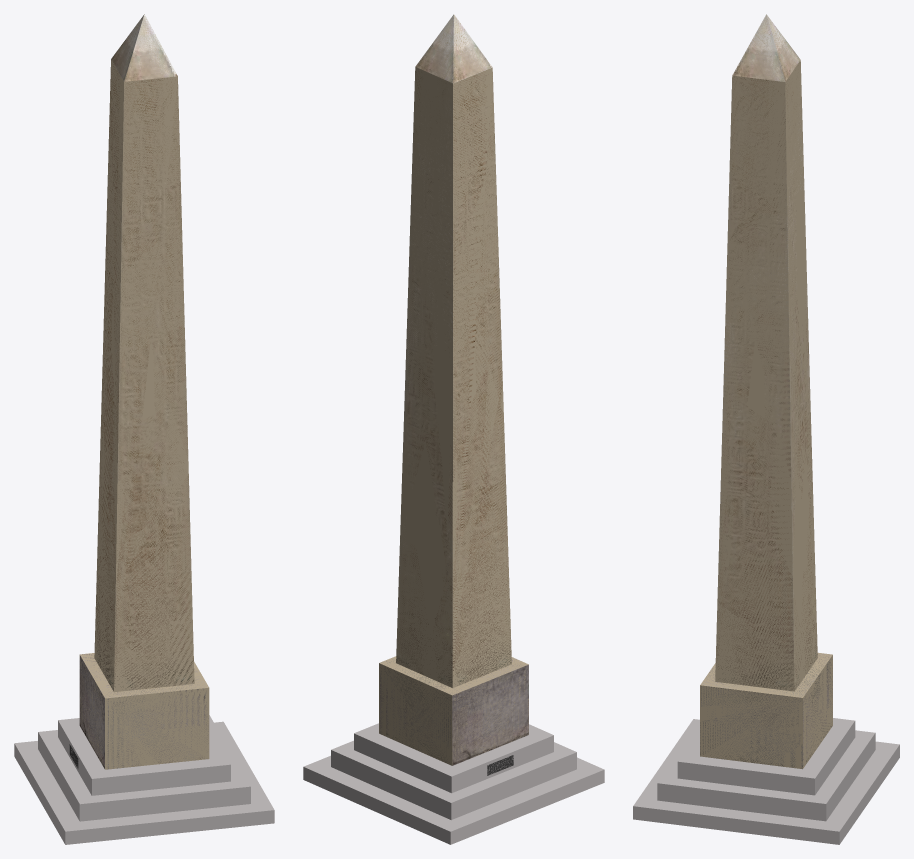
Rendered from CleopatrasNeedle (1).fbx.
3 renders of one model, left to right at view 1: azimuth 30°, elevation 25°; view 2: azimuth 150°, elevation 25°; view 3: azimuth 270°, elevation 25°, orthographic.
Parts seen in each view (by area): view 1: Group2, Group3, Group1; view 2: Group2, Group3, Group1; view 3: Group2, Group3, Group1.
Part boxes in pixels (x1,y1,x2,y2): Group2: (94,14,194,692); Group3: (14,715,274,844); Group1: (79,653,209,769); Group2: (396,14,511,688); Group3: (303,723,604,844); Group1: (379,656,528,765); Group2: (715,14,817,691); Group3: (633,718,899,844); Group1: (700,652,832,769).
Bounding box in the file's own units: 306 × 979 × 306.
